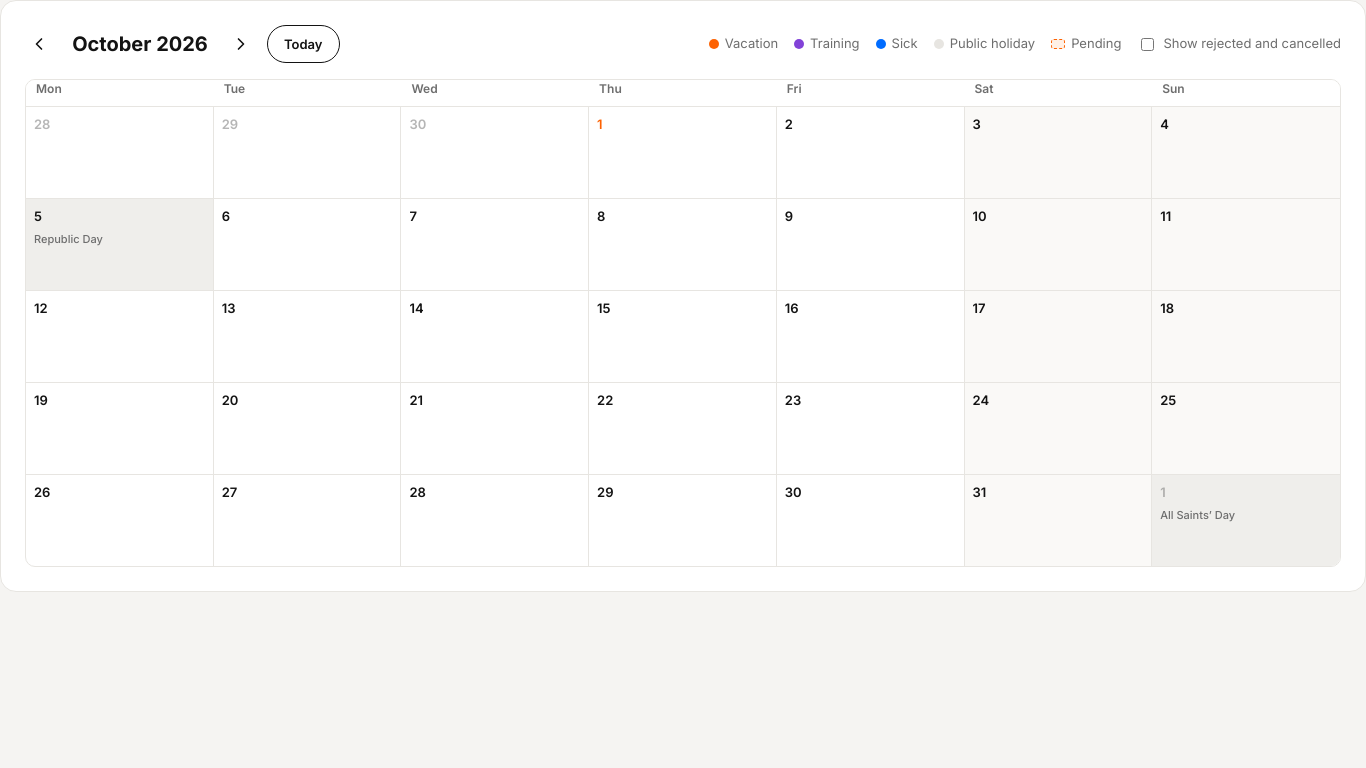
Test: AbsenceCalendar › moves between months and back to today, fetching the new range
The image size is (1366, 768).
Click the button named "Next month". click: {"x": 241, "y": 44}
box: left=227, top=30, right=255, bottom=58
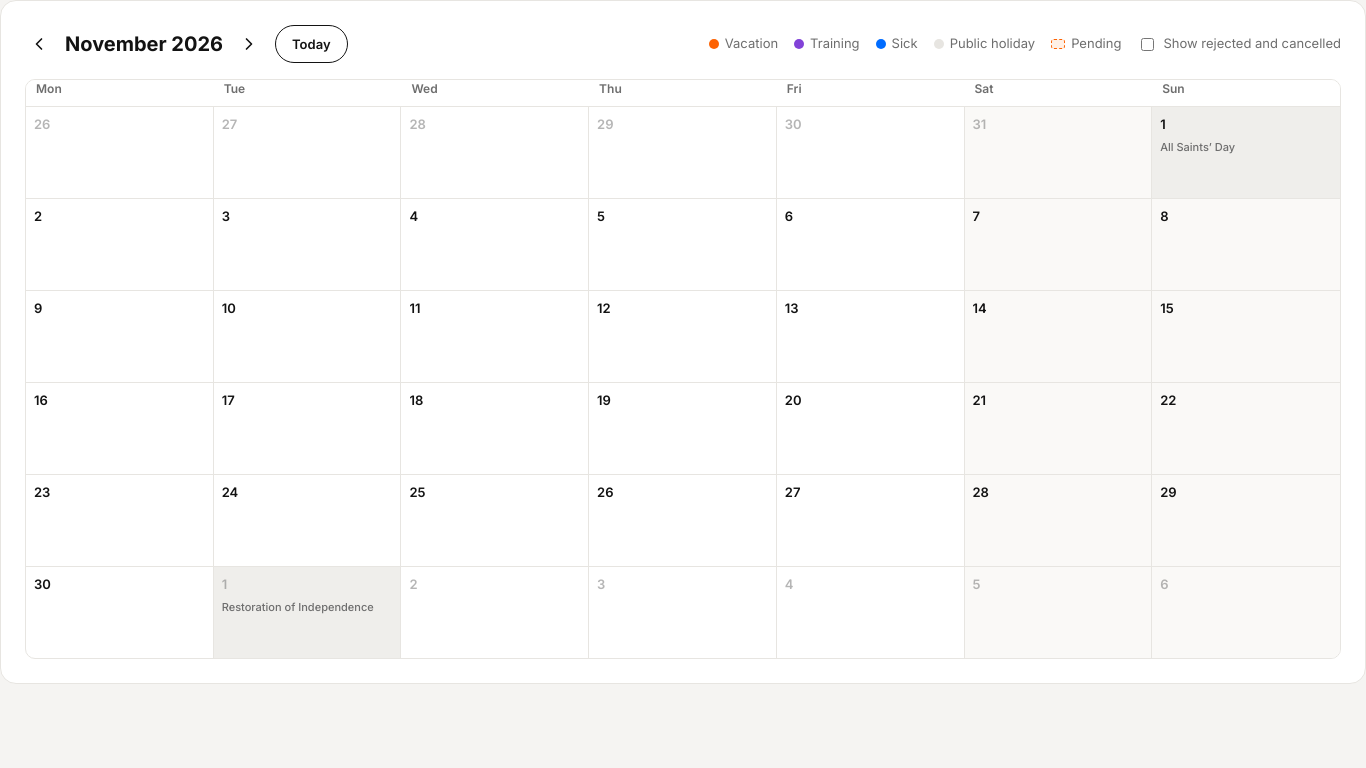
Result: the heading "November 2026" is shown at left=65, top=29, right=223, bottom=59
Click the button named "Previous month". click: {"x": 39, "y": 44}
box: left=25, top=30, right=53, bottom=58
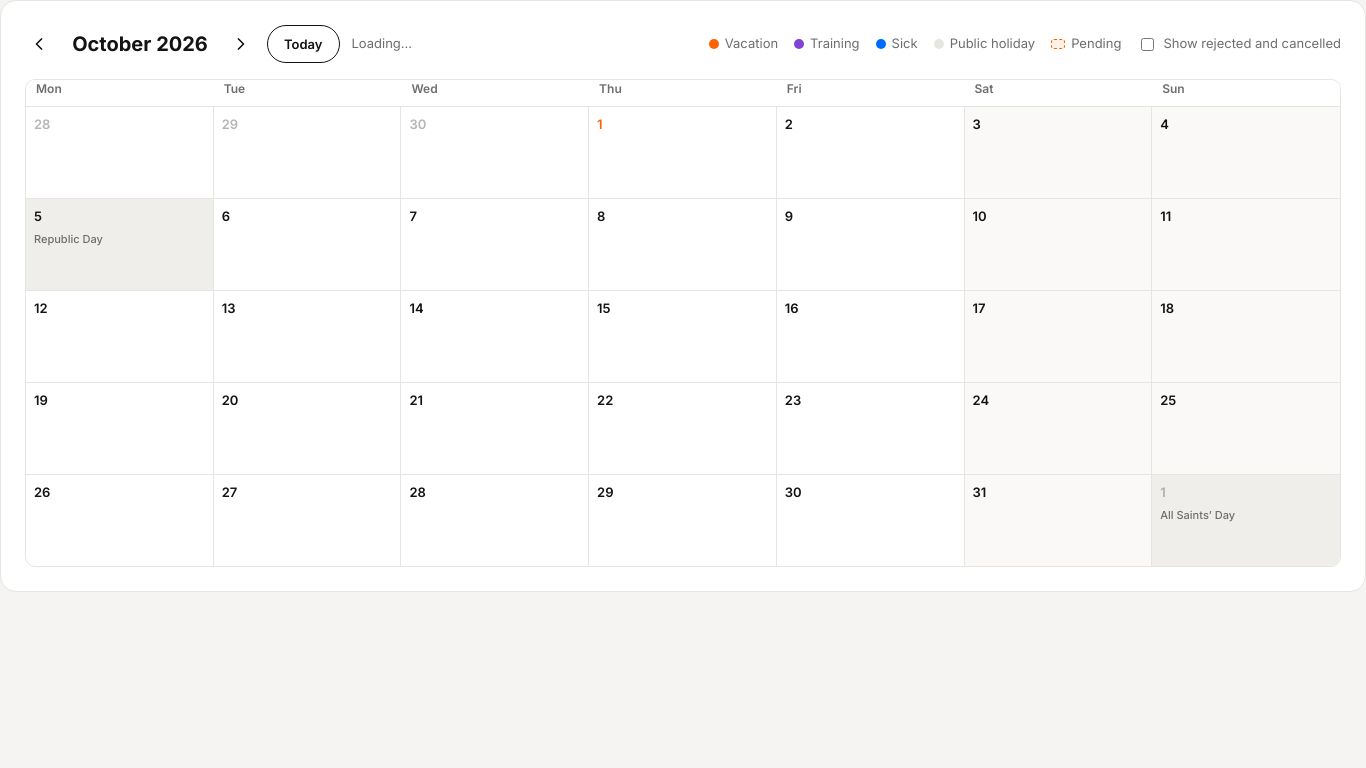
Click the button named "Previous month". click: {"x": 39, "y": 44}
box: left=25, top=30, right=53, bottom=58
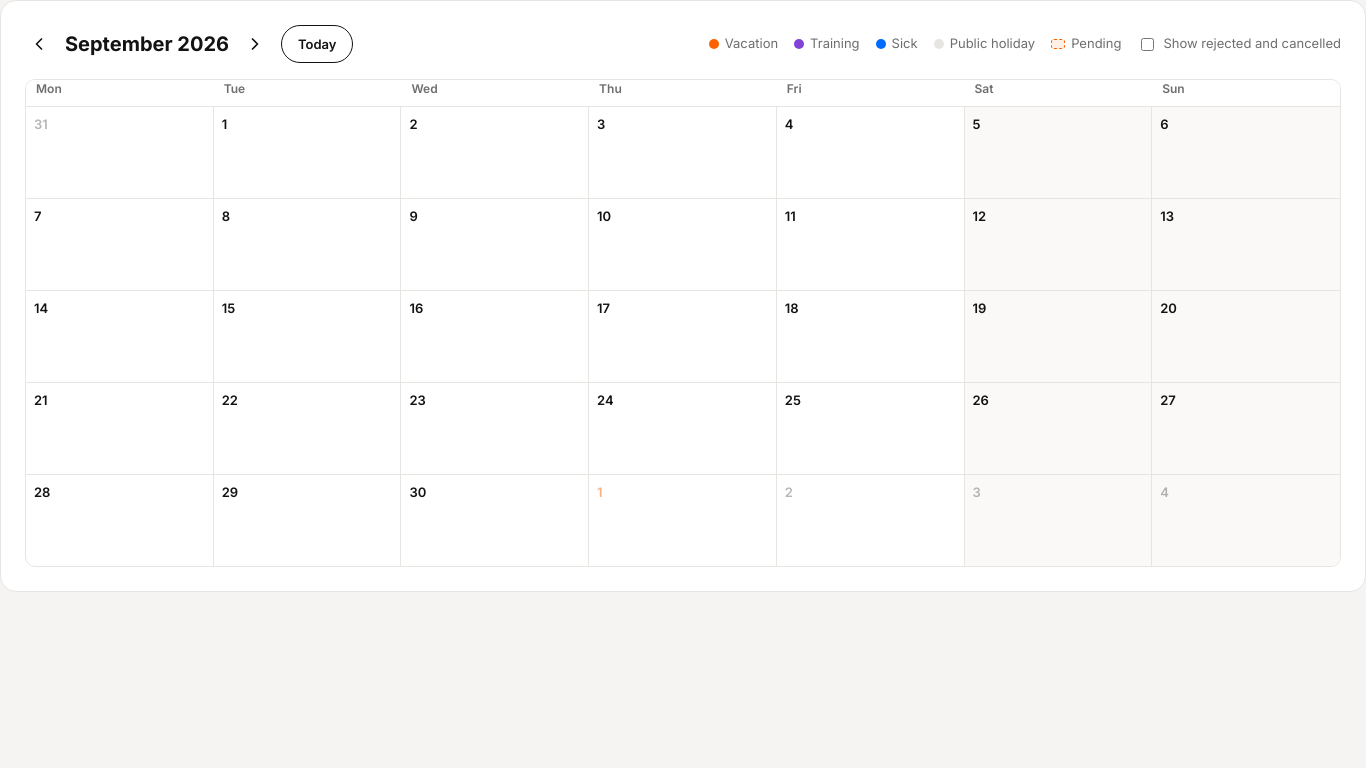
Result: the heading "September 2026" is shown at left=65, top=29, right=229, bottom=59
Click the button "Today". click: {"x": 317, "y": 44}
box: left=281, top=25, right=354, bottom=63
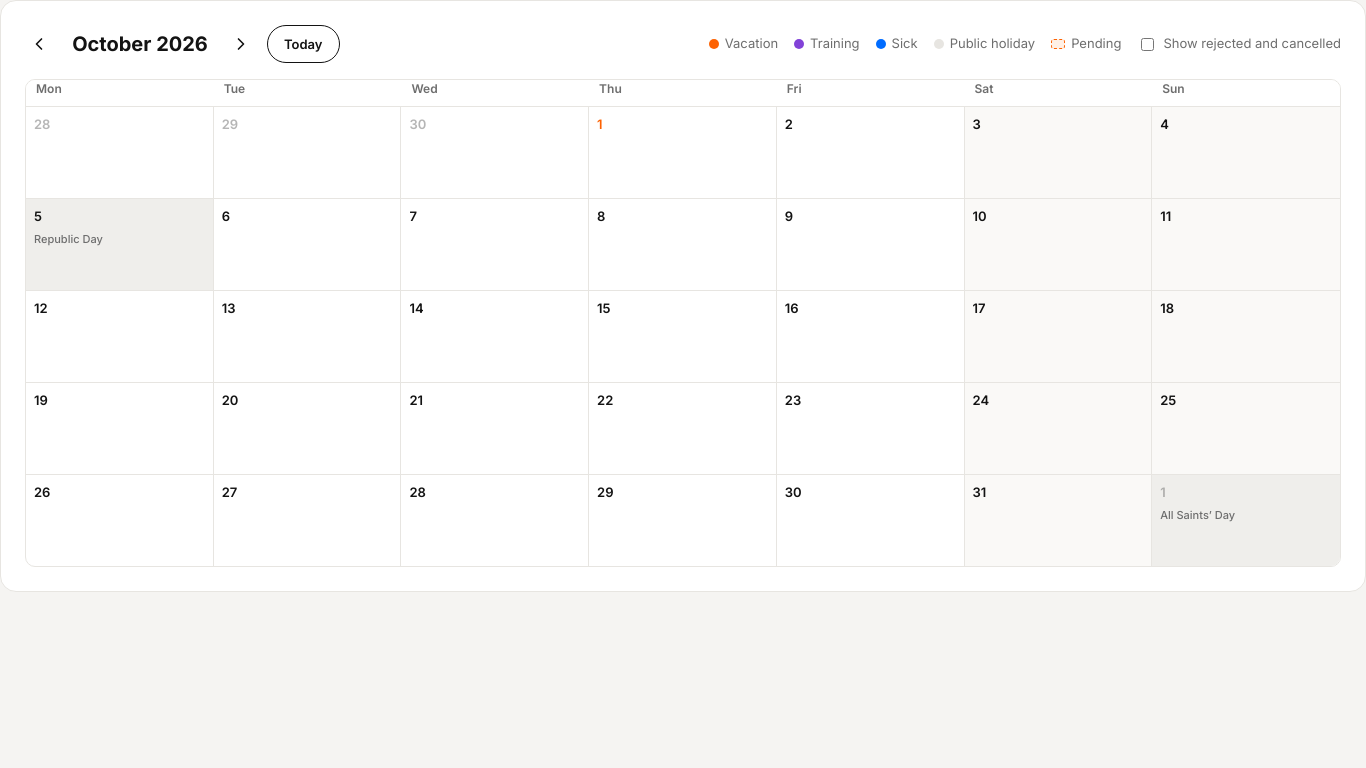
Result: the heading "October 2026" is shown at left=65, top=29, right=215, bottom=59
